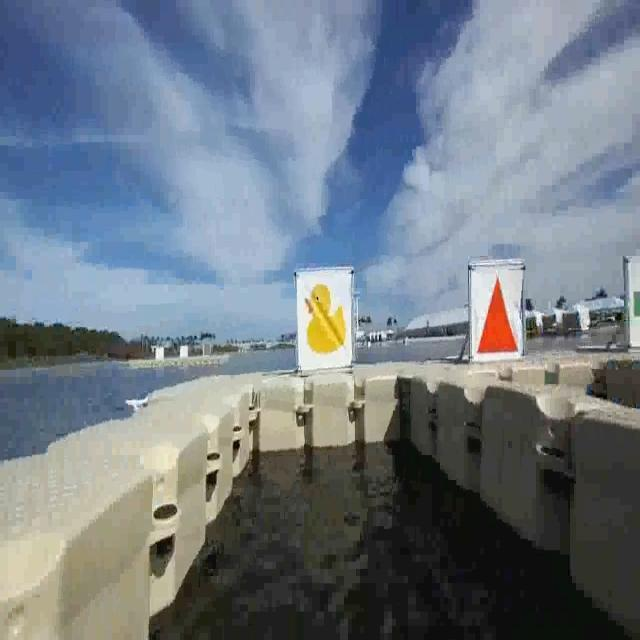red-dot: (470, 265, 520, 370)
yellow-duck: (305, 281, 347, 353)
